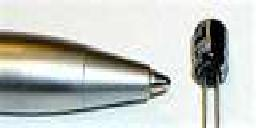Electrolytic-Capacitor: (187, 14, 238, 128)
